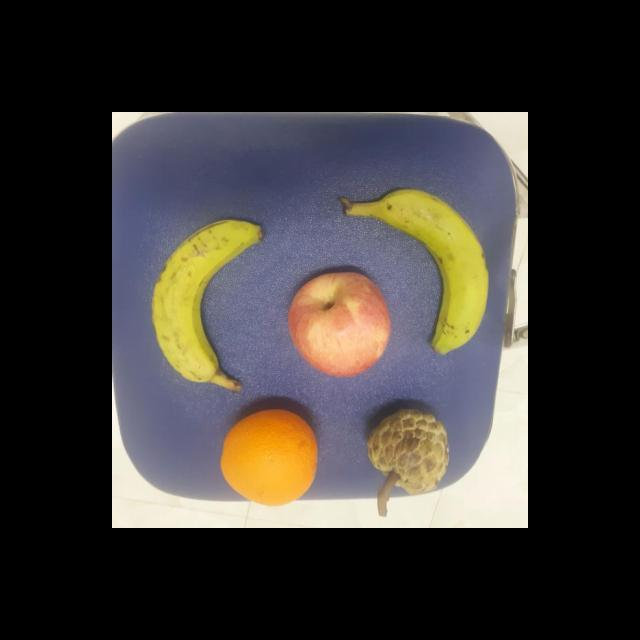Sakya fruit: (364, 409, 453, 494)
apple: (286, 268, 392, 379)
banana: (343, 191, 491, 357), (148, 221, 266, 393)
orange: (221, 406, 320, 506)
